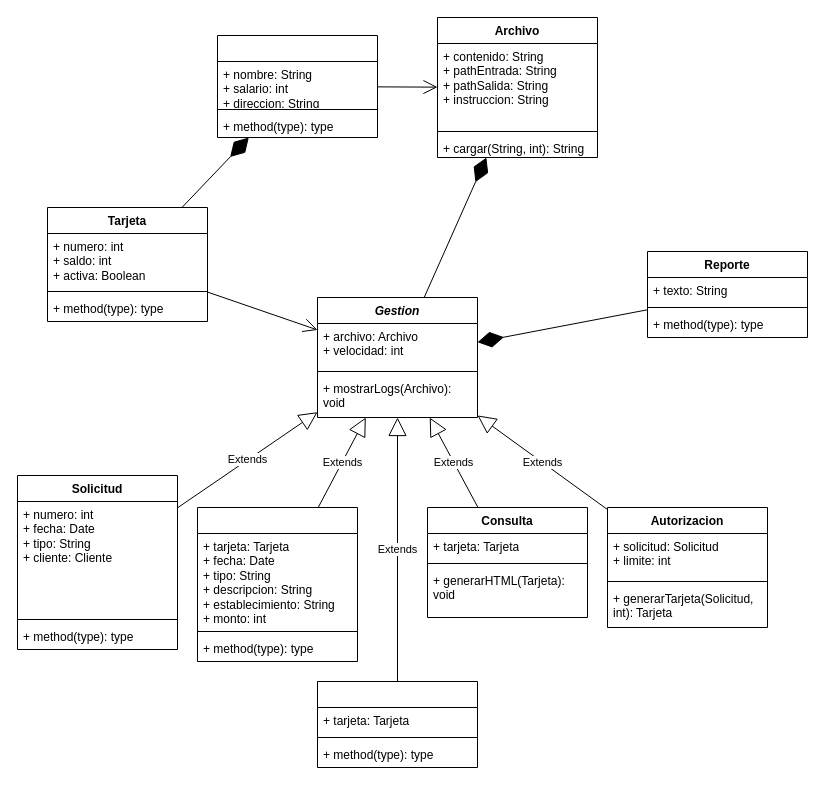
Image size: 825x788. Some labels were removed from this diagram. The shapes that lost their labels are listed below. From the top down, each one's box as (x1, y1, x2, y2) in pixels, then its label:
(216, 34, 378, 138): Cliente
(196, 506, 358, 662): Movimiento
(316, 680, 478, 768): Cancelacion
